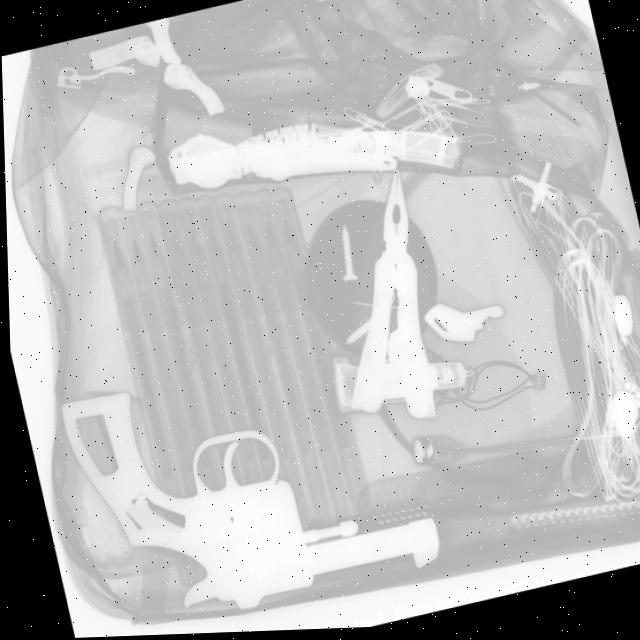pistol: (48, 319, 449, 639)
